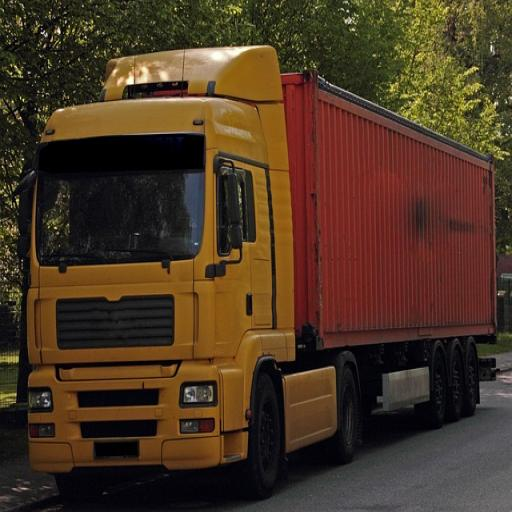truck: (14, 44, 498, 501)
